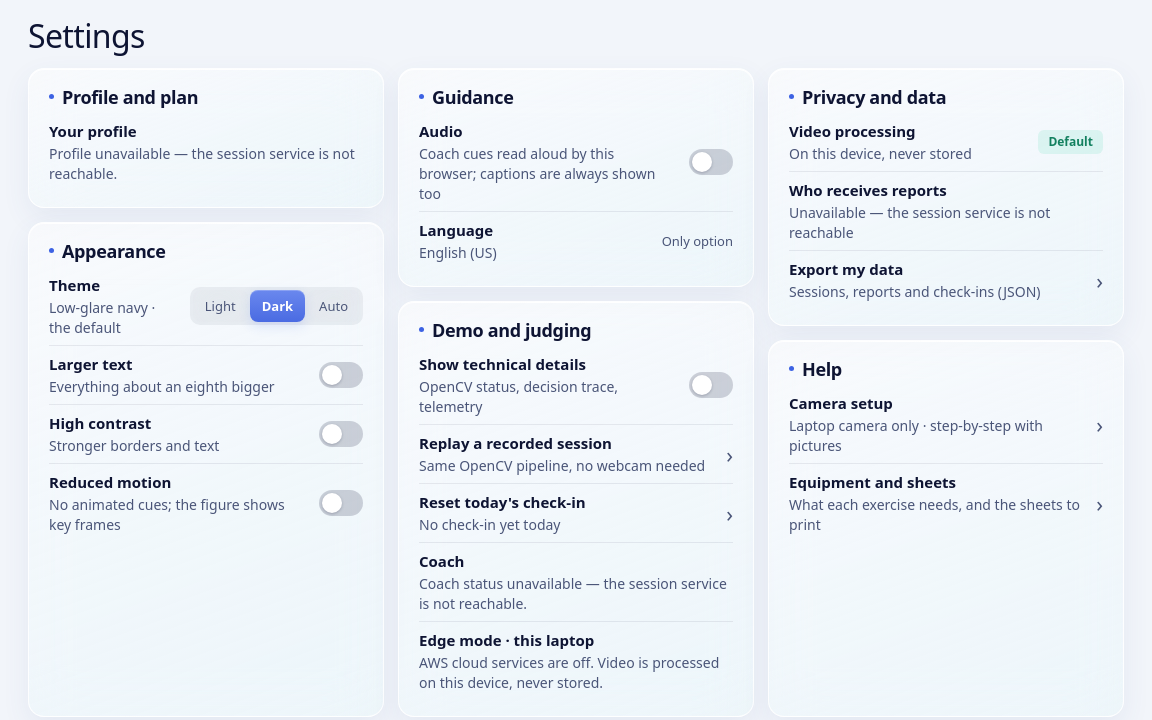
it: replay clips are named from the exercise registry, including arm clips by exercise id
What coordinates should you click on to do the following:
click the button "Replay a recorded session"
I would click on:
 (576, 454)
Its box is [419,424,733,482].
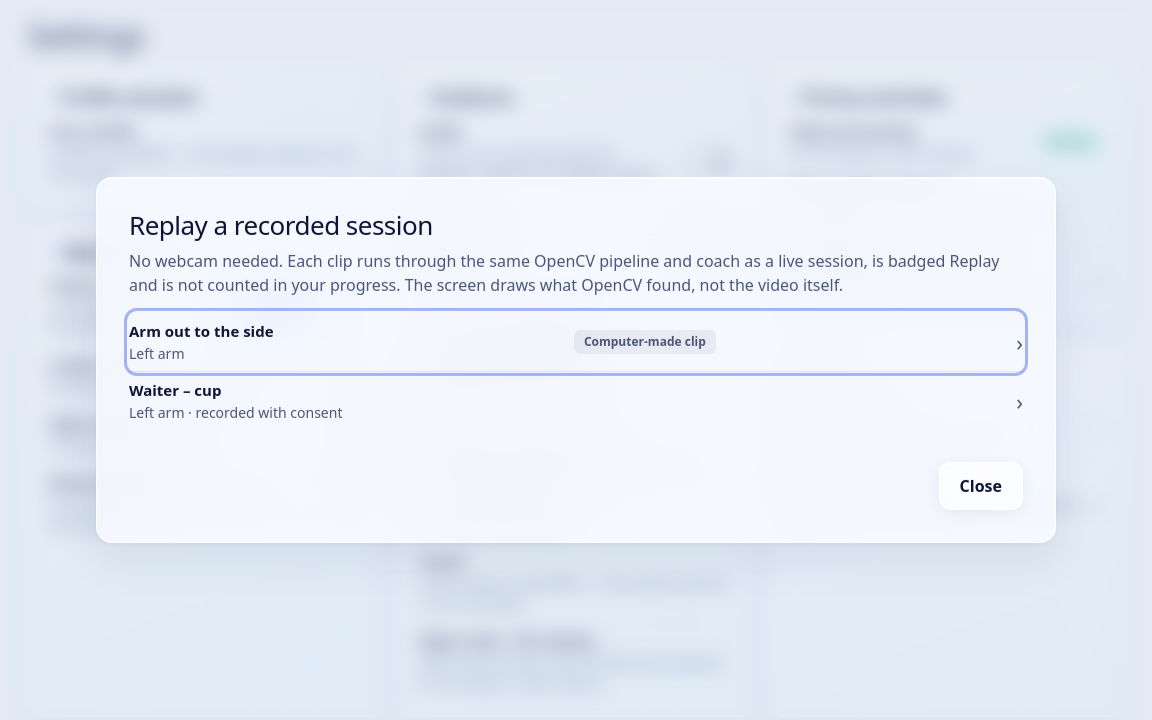
Expected: the text "Arm out to the side" is shown, [129,320,274,342]
Expected: the text "Waiter – cup" is shown, [129,380,221,400]
Expected: the text "Left arm · recorded with consent" is shown, [129,403,342,423]
